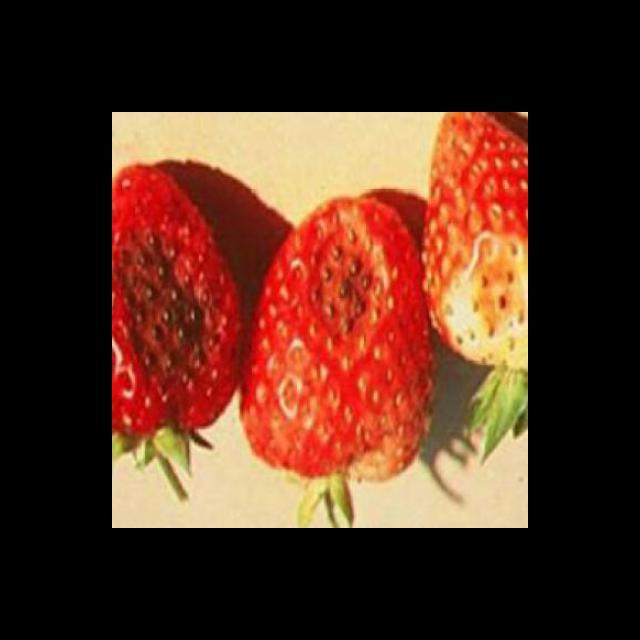Anthracnose Fruit Rot: (112, 229, 222, 401), (304, 213, 392, 352)
